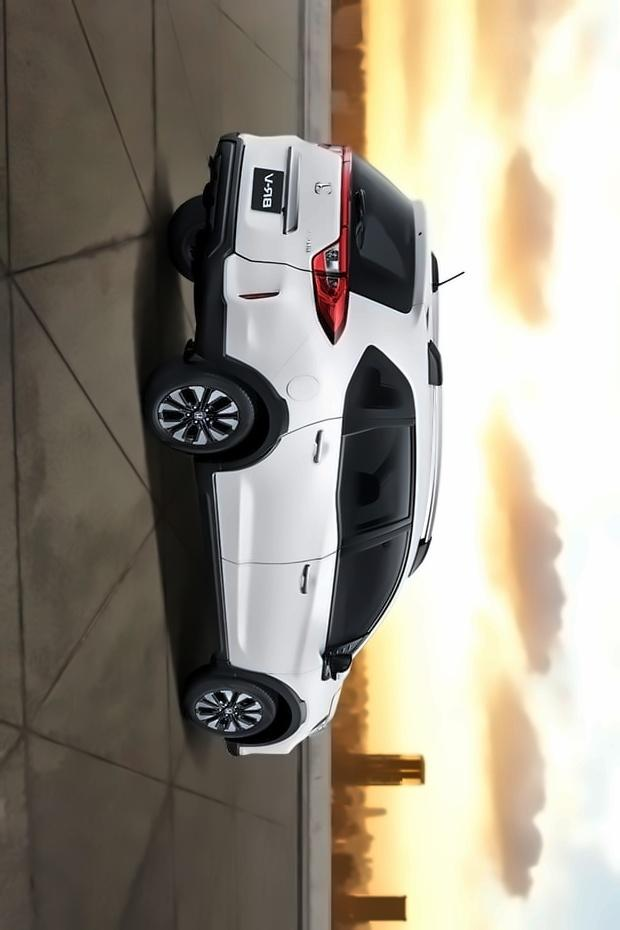Car boot: (203, 119, 441, 289)
Driver-s door - -F-R-: (179, 522, 465, 681)
Fender - -F-R-: (237, 662, 353, 742)
Fender - -R-R-: (202, 252, 410, 445)
Front bumper: (222, 730, 297, 764)
Passenger-s door - -R-R-: (177, 409, 457, 573)
Rear bumper: (189, 126, 260, 368)
Rear light - -R-: (304, 234, 354, 347)
Side bumper - -R-: (195, 446, 264, 679)
Side mirror - -R-: (312, 627, 364, 685)
